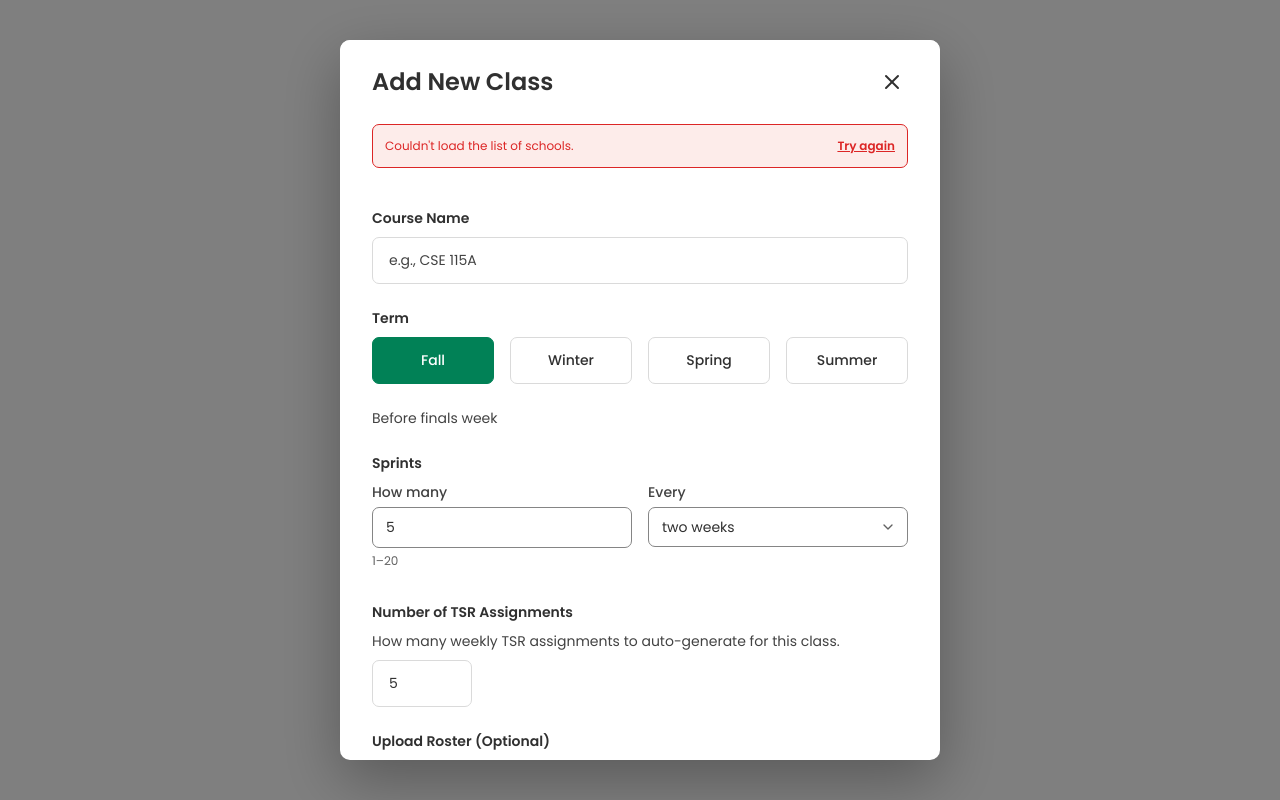
Test: CreateClassModal — a schools list that failed to load › offers Try again, which asks again and shows the list once it loads
Expected: the text "Couldn't load the list of schools." is shown, left=385, top=137, right=574, bottom=155
Click the button "Try again" at (866, 146), box left=837, top=137, right=895, bottom=155
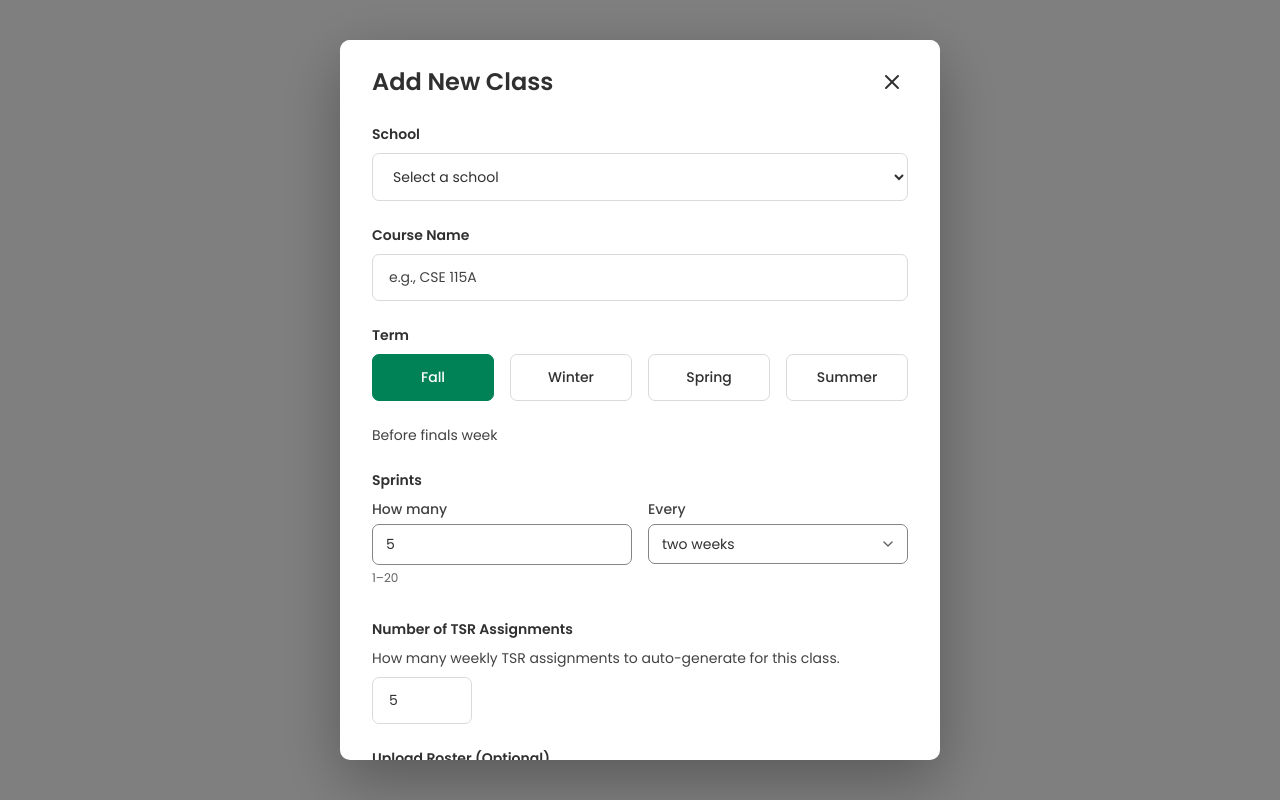
Result: the dropdown labelled "School" is shown at left=372, top=153, right=908, bottom=201
Result: the text "couldn.t load the list of schools" is gone
